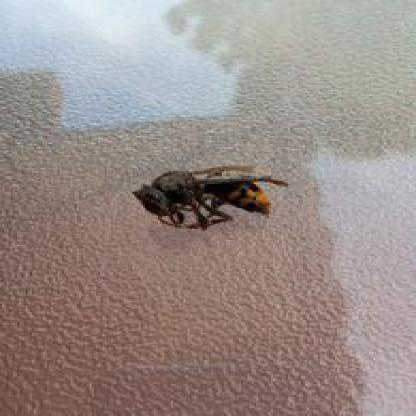Asian Hornet: (130, 161, 293, 236)
